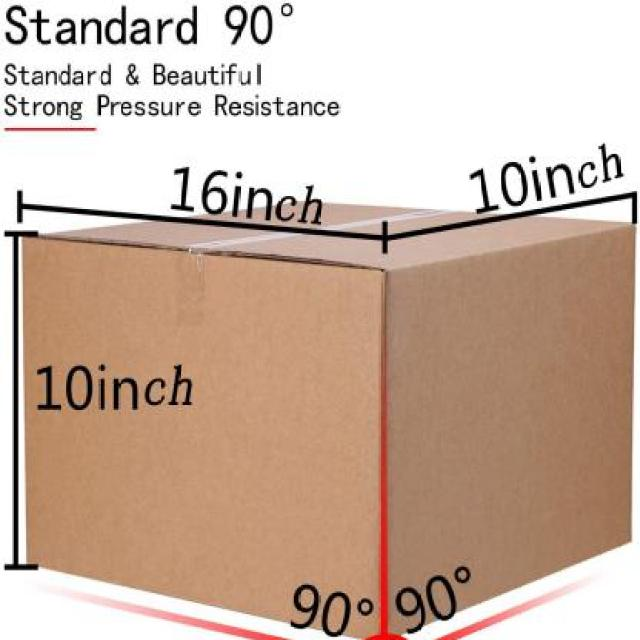box: (9, 191, 636, 640)
